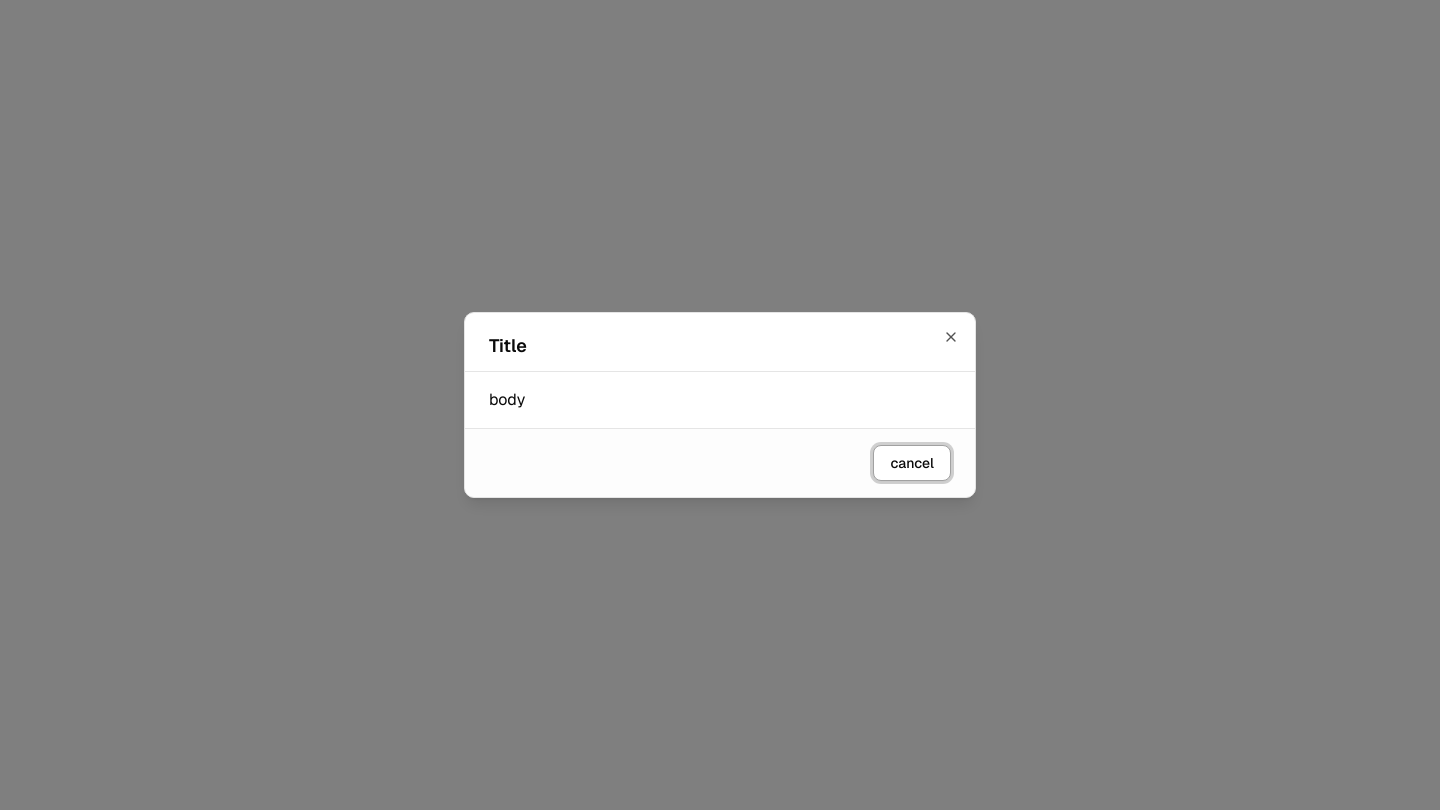
it: AppDialog › keeps the dialog open when the admin chooses to keep editing
The width and height of the screenshot is (1440, 810).
Press Escape in the dialog, box top-left (464, 312), bottom-right (976, 498)
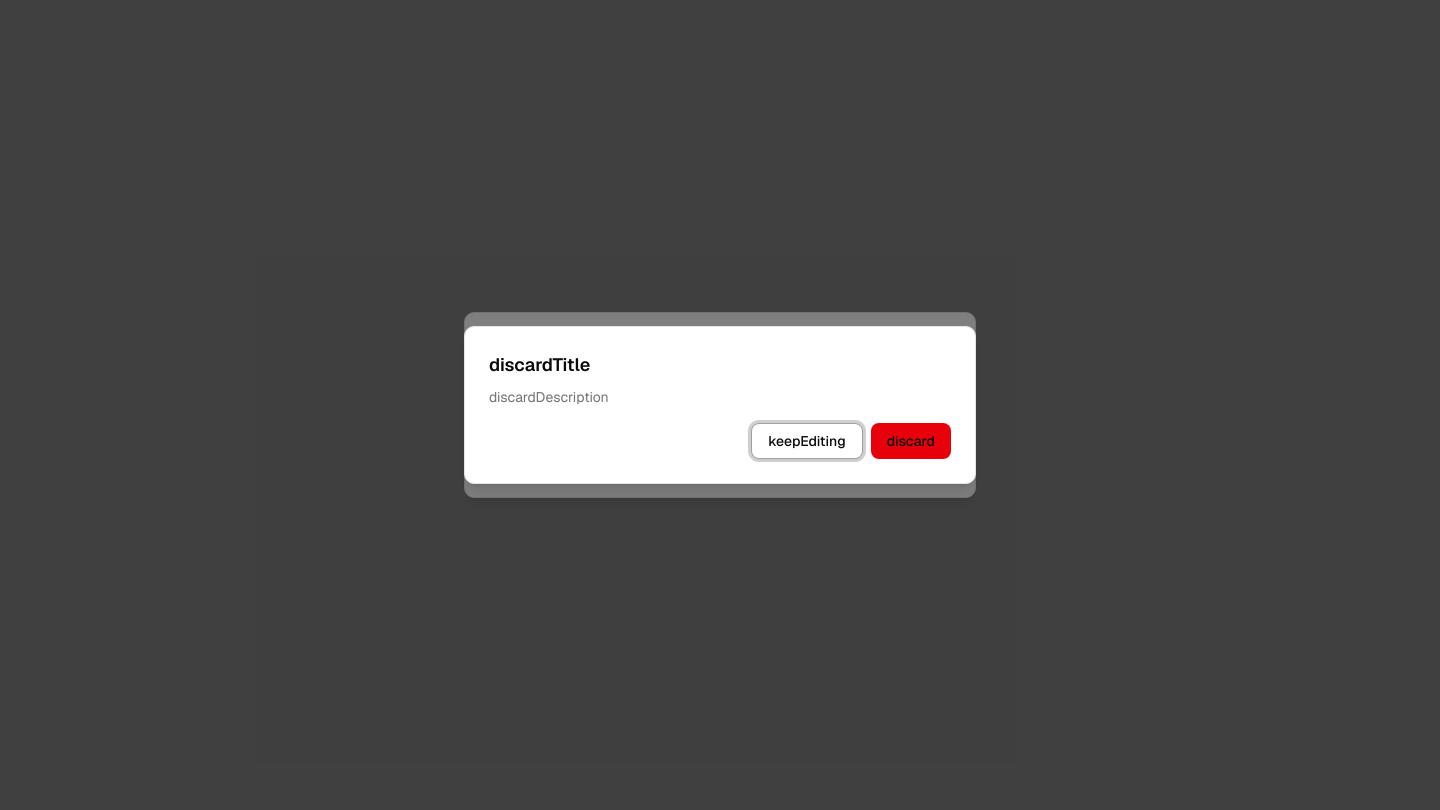
Click the button "keepEditing" at {"x": 807, "y": 441}, box top-left (751, 423), bottom-right (863, 459)
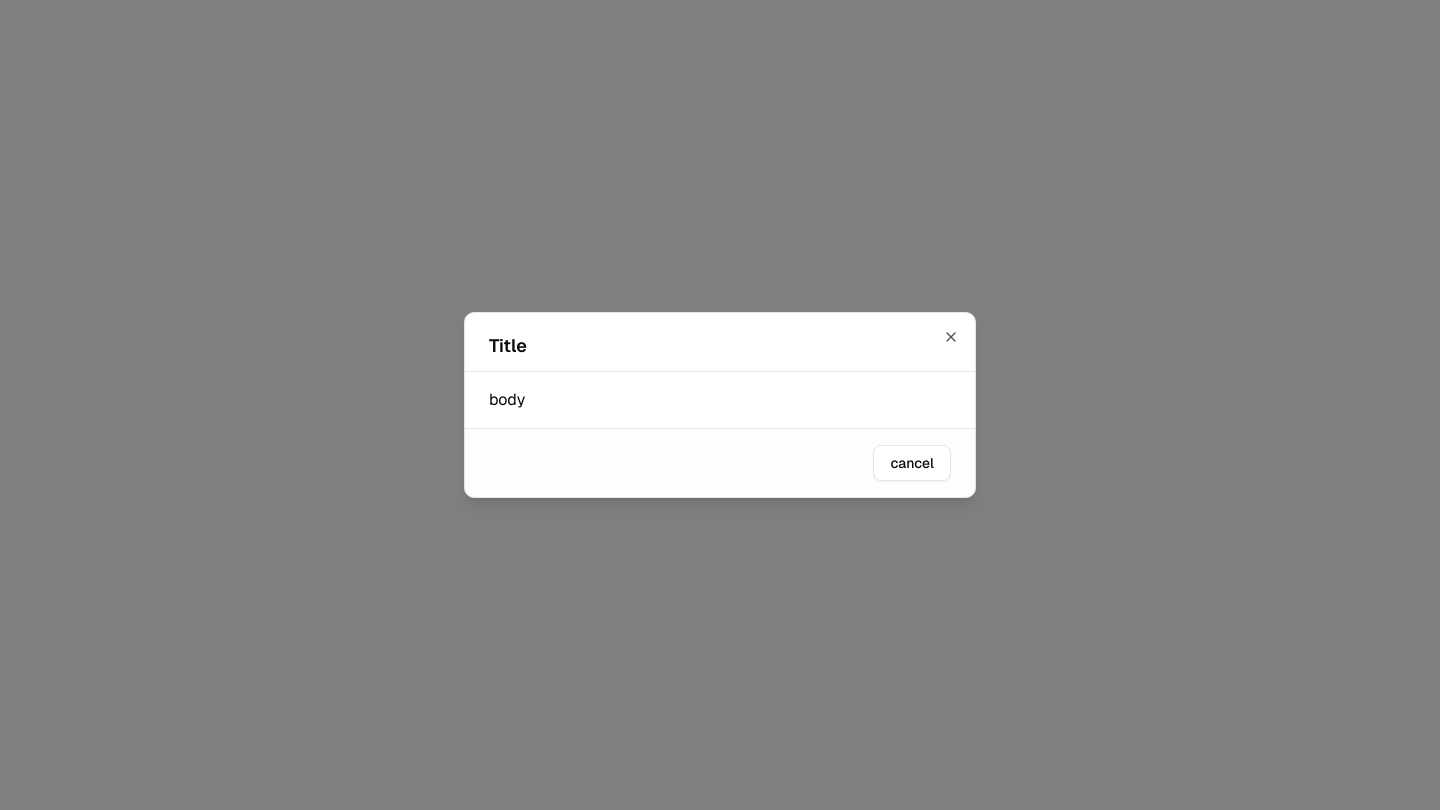
Check: the dialog "discardTitle discardDescription keepEditing discard" is gone
